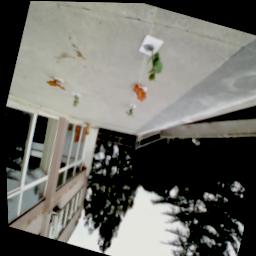herb: (140, 46, 169, 85), (124, 106, 136, 119), (71, 95, 82, 109)
wild: (43, 76, 69, 94), (129, 83, 149, 104)
